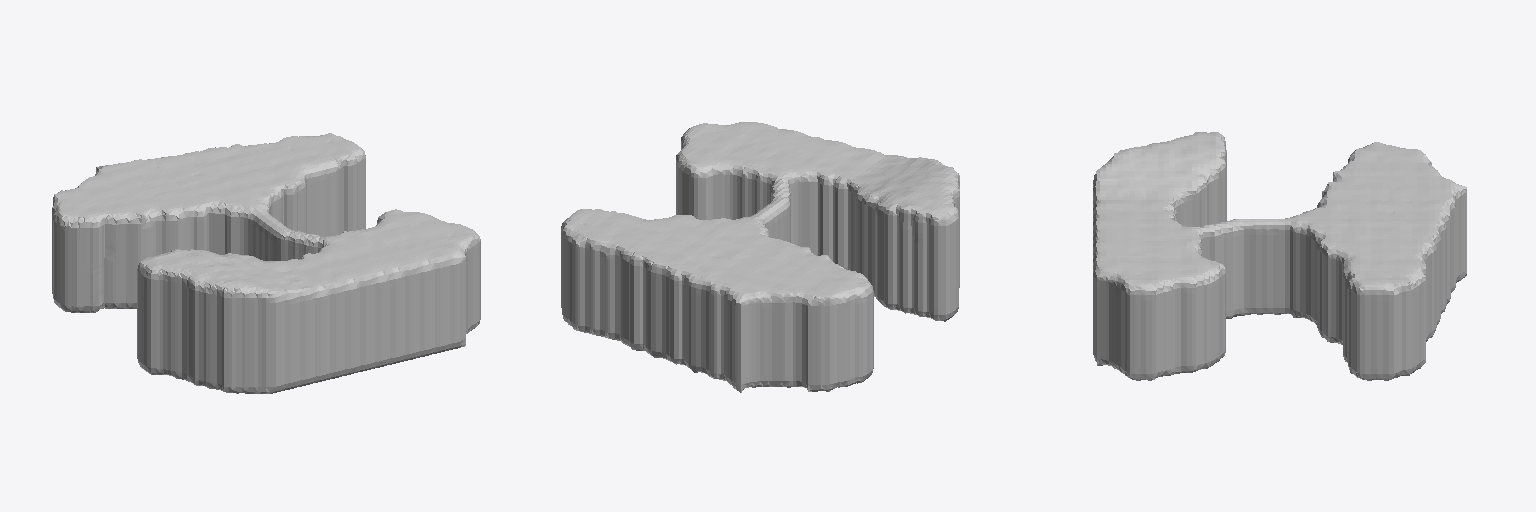
Rendered from Level2_TikTok_ColliderMesh.obj.
3 renders of one model, left to right at view 1: azimuth 30°, elevation 25°; view 2: azimuth 150°, elevation 25°; view 3: azimuth 270°, elevation 25°, orthographic.
Parts seen in each view (by area): view 1: Plane.001; view 2: Plane.001; view 3: Plane.001.
Part boxes in pixels (x1,y1,x2,y2): Plane.001: (52,133,480,393); Plane.001: (561,122,959,392); Plane.001: (1093,132,1466,380).
Size of the model in its own units: 12.04 by 4.19 by 12.95.